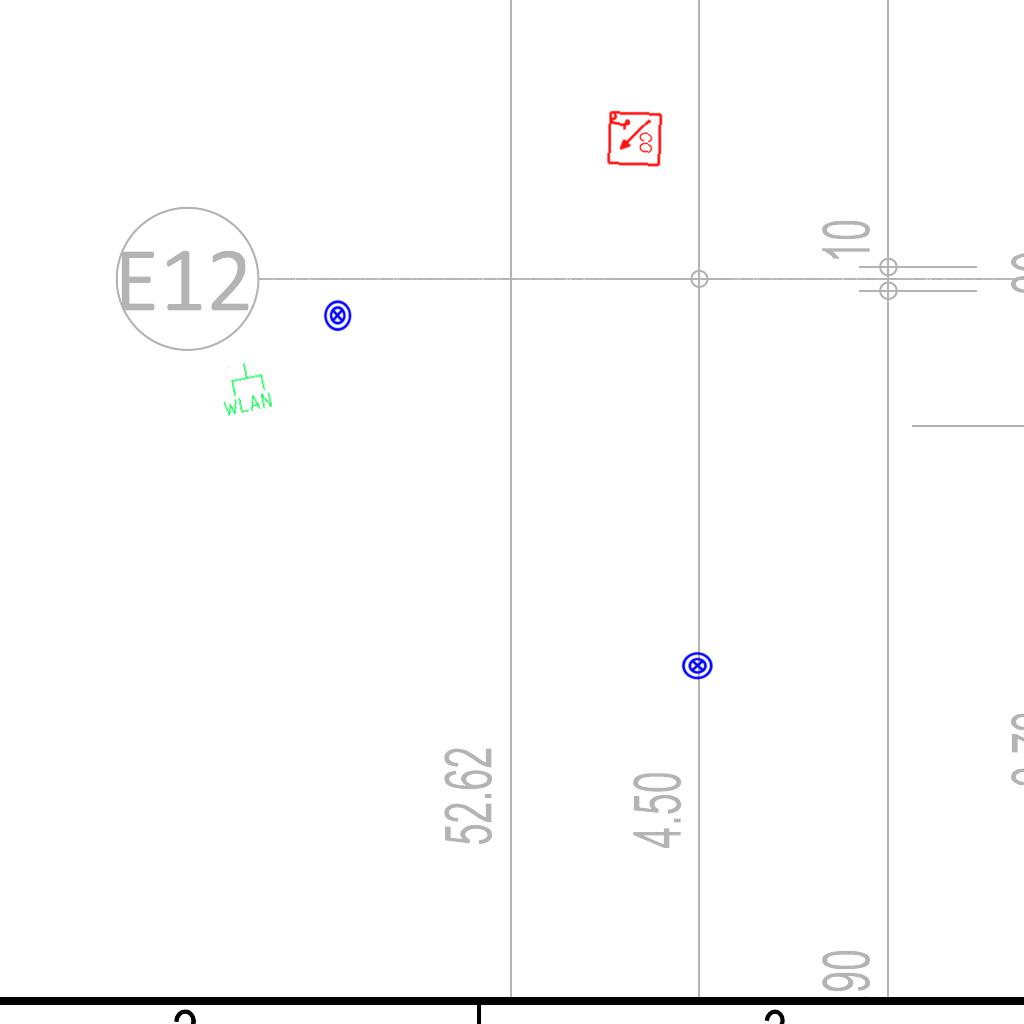ROA_Rauchmelder_optisch_mit_Signalgeber_(Sockelsirene): (605, 110, 663, 168)
Taster_beleuchtet: (321, 299, 354, 332), (681, 649, 714, 682)
WLAN: (213, 357, 275, 419)
